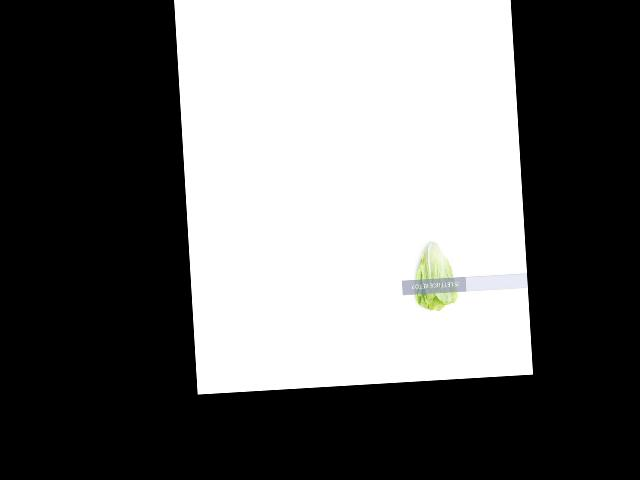lettuce: (407, 234, 460, 312)
